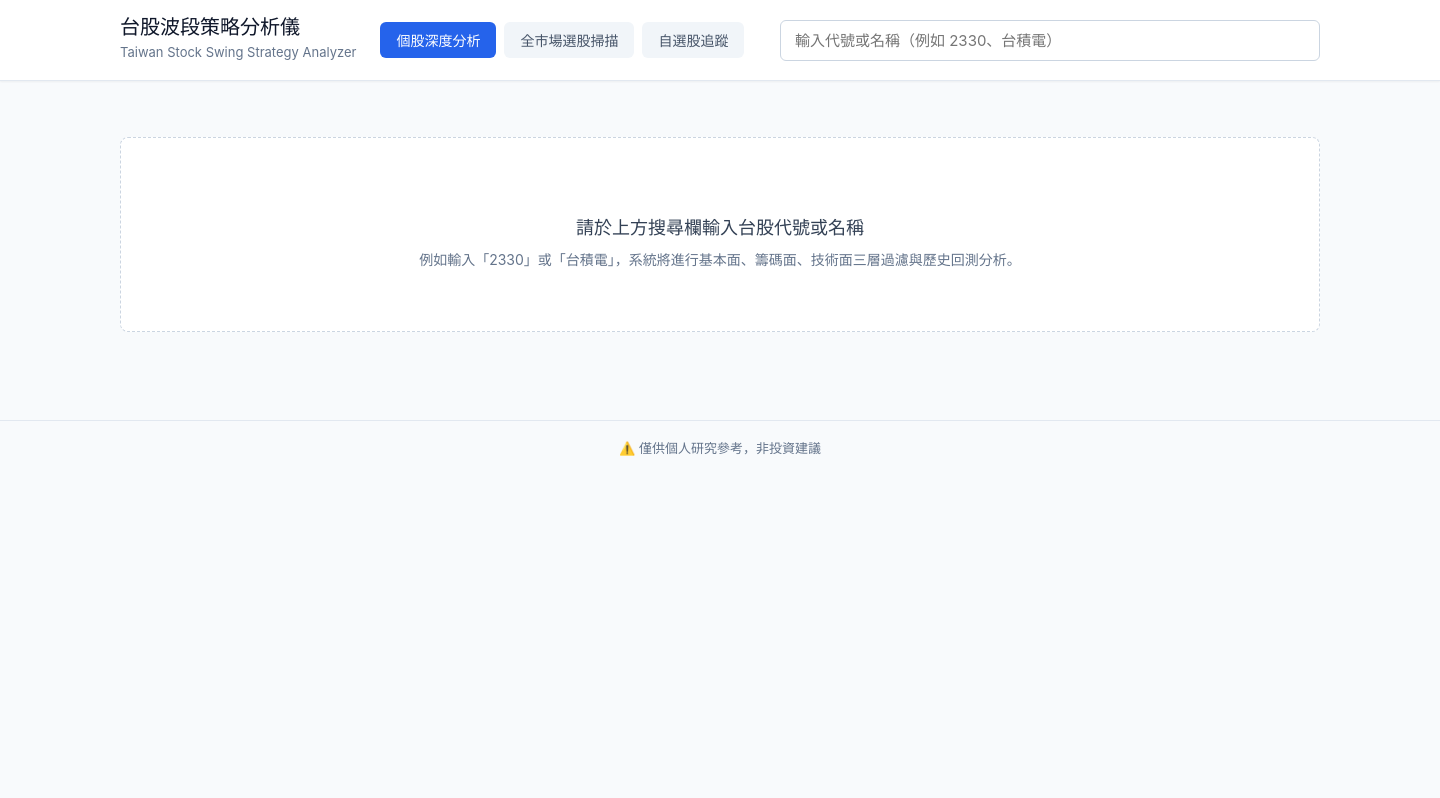
Scenario: App Component Integration › syncs watchlist state and header count when toggling star in scanner
The width and height of the screenshot is (1440, 798).
Expected: the button with test id "tab-watchlist" reads "自選股追蹤", [642,22,744,58]
Expected: the button with test id "tab-watchlist" does not show "(1)", [642,22,744,58]
// Switch to scanner tab
Click the button with test id "tab-scanner": (569, 40) [504,22,634,58]
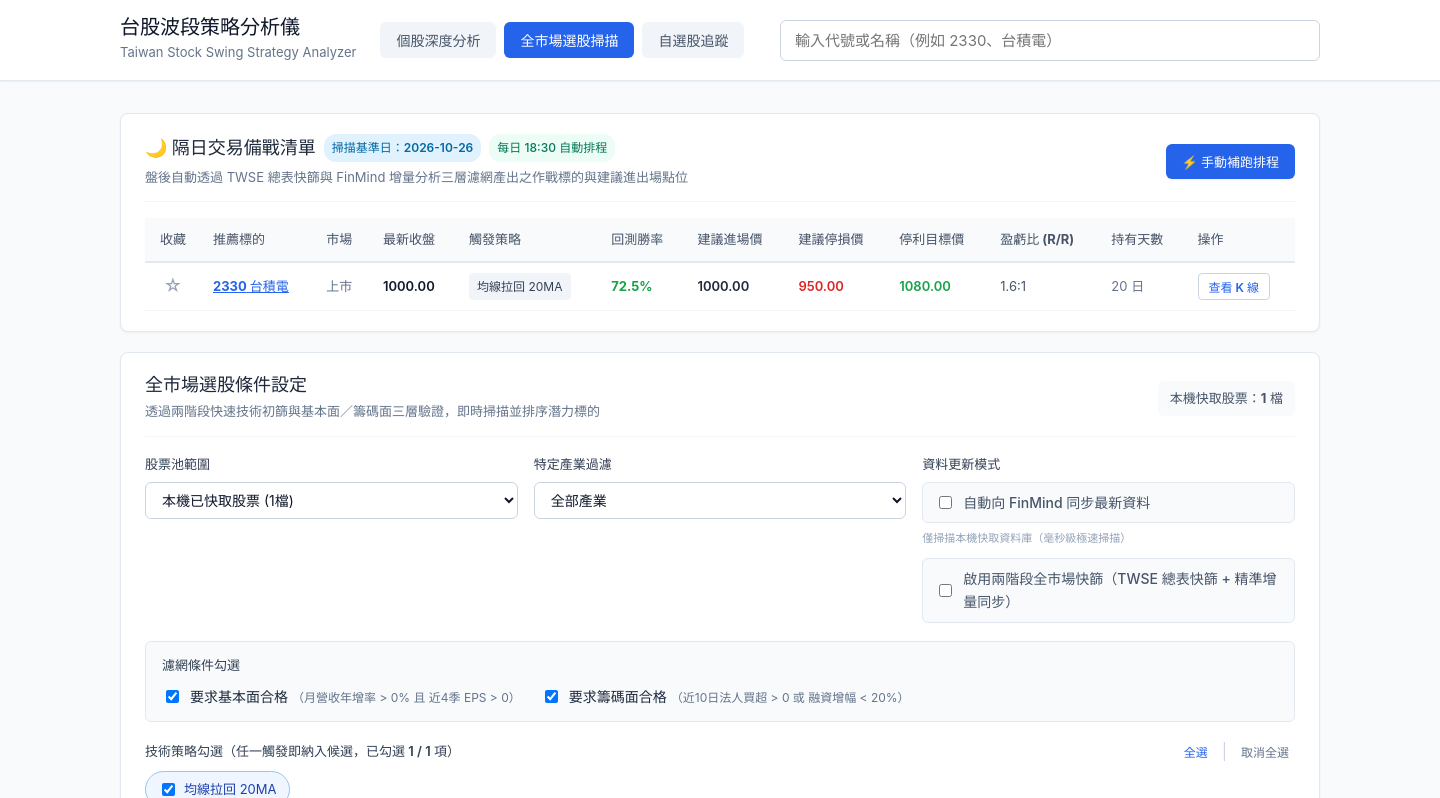
Expected: the button with test id "toggle-watchlist-nightly-2330" is shown
Expected: the button with test id "toggle-watchlist-nightly-2330" reads "☆"
// Click star to add to watchlist
Click the button with test id "toggle-watchlist-nightly-2330": (173, 286) [162,274,184,296]
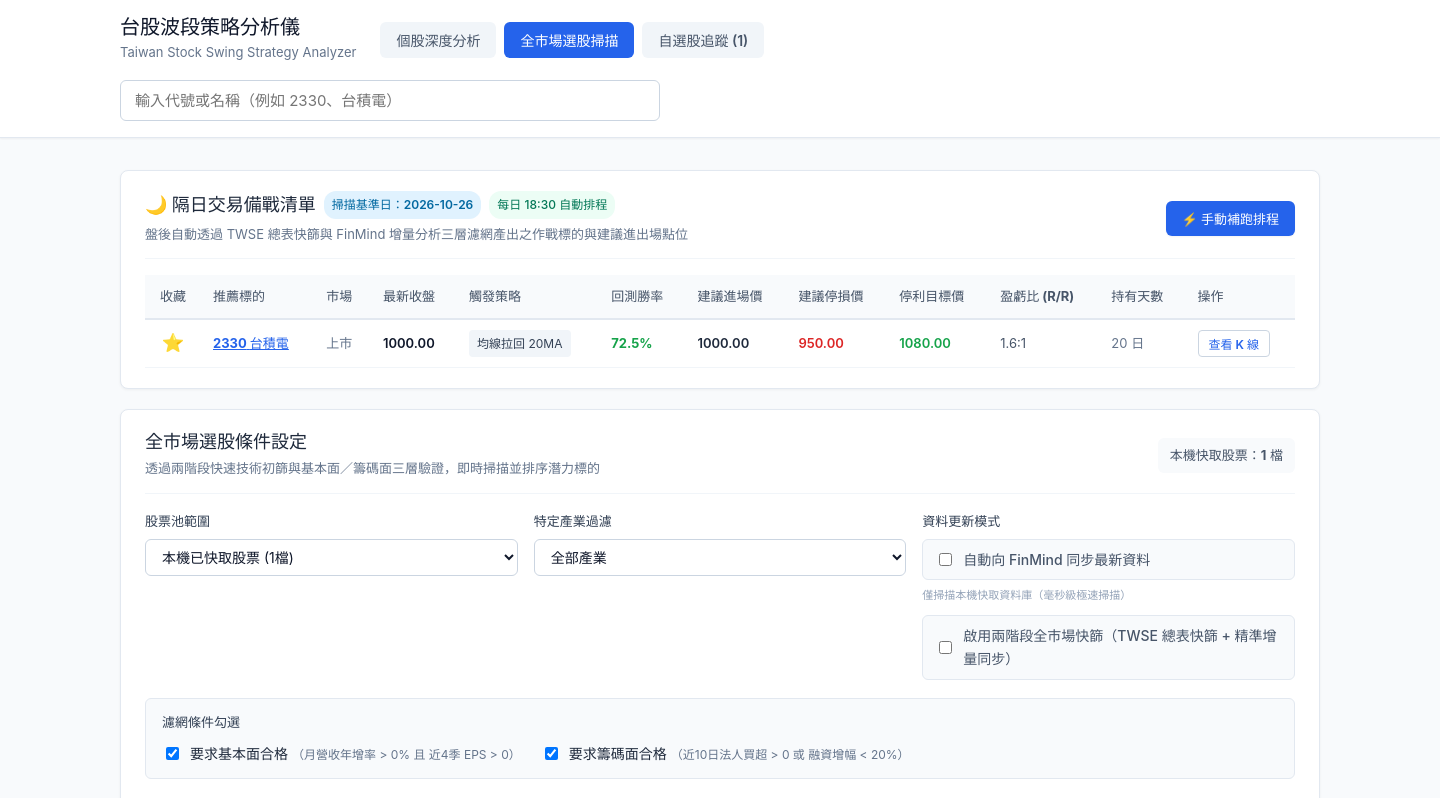
Expected: the button with test id "tab-watchlist" reads "自選股追蹤 (1)", [642,22,764,58]
Expected: the button with test id "toggle-watchlist-nightly-2330" reads "⭐"
// Click again to remove from watchlist
Click the button with test id "toggle-watchlist-nightly-2330": (173, 342) [160,332,186,354]
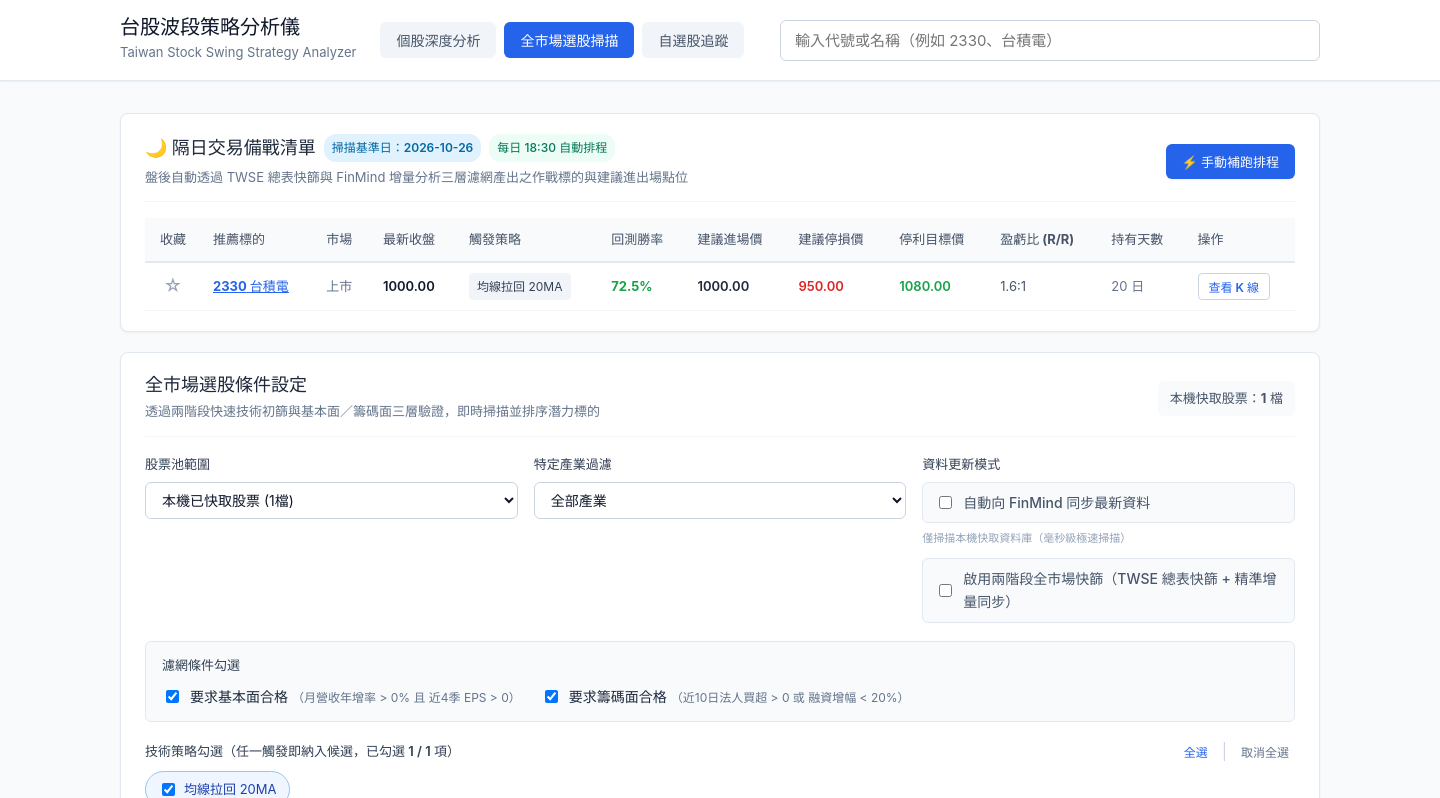
Expected: the button with test id "tab-watchlist" does not show "(1)", [642,22,744,58]
Expected: the button with test id "tab-watchlist" reads "自選股追蹤", [642,22,744,58]
Expected: the button with test id "toggle-watchlist-nightly-2330" reads "☆", [162,274,184,296]
